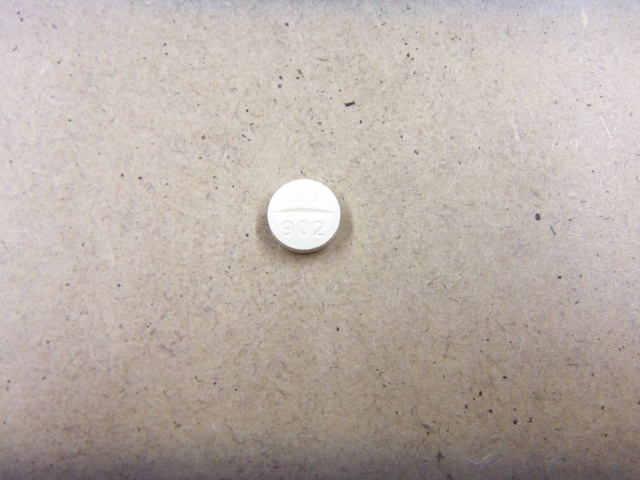0: (305, 184, 320, 204), (296, 218, 311, 238)
2: (312, 219, 328, 238)
5: (287, 182, 305, 204)
9: (282, 218, 295, 237)
|: (267, 205, 340, 218)
